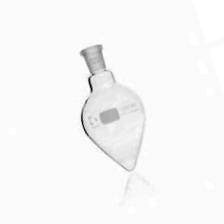Pear shaped flask: (78, 43, 150, 177)
